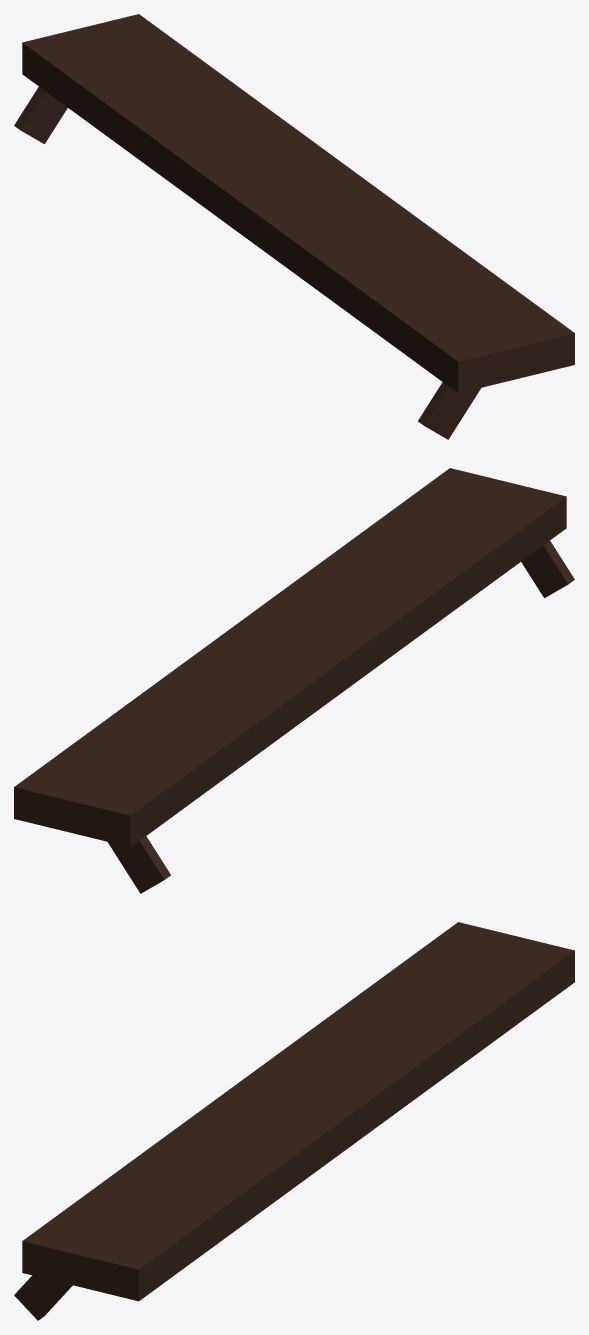
The model's file is Shelf.fbx.
The picture shows the model from 3 angles, top to bottom: view 1: azimuth 30°, elevation 25°; view 2: azimuth 150°, elevation 25°; view 3: azimuth 330°, elevation 25°; orthographic projection.
Parts seen in each view (by area): view 1: Shelf; view 2: Shelf; view 3: Shelf.
Part boxes in pixels (x1,y1,x2,y2): Shelf: (14, 14, 574, 439); Shelf: (14, 468, 574, 893); Shelf: (14, 922, 574, 1320).
Size of the model in its own units: 171 by 105 by 938.
